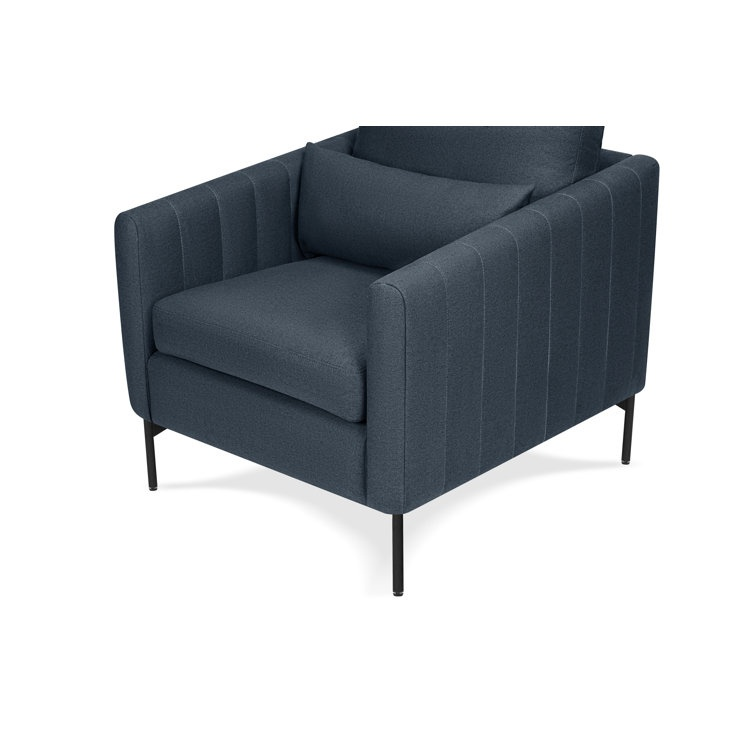obstacle: (115, 127, 657, 591)
